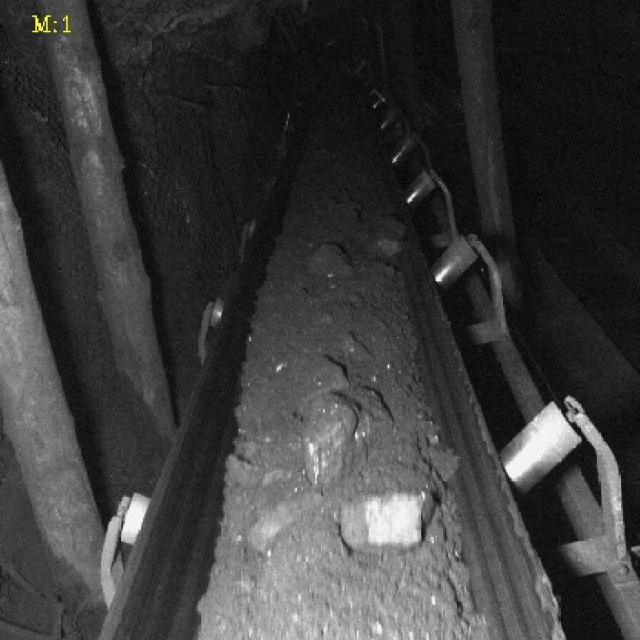large_sized_coal: (342, 483, 432, 559), (305, 392, 366, 486), (305, 237, 352, 288)
